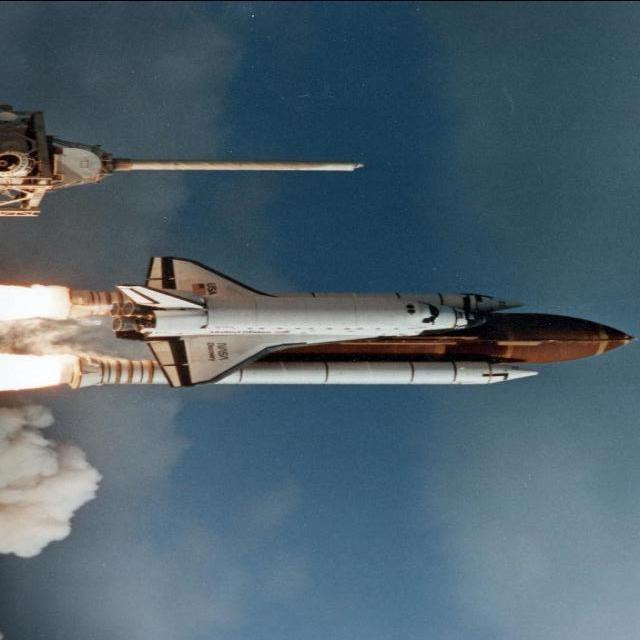missile: (53, 252, 640, 408)
